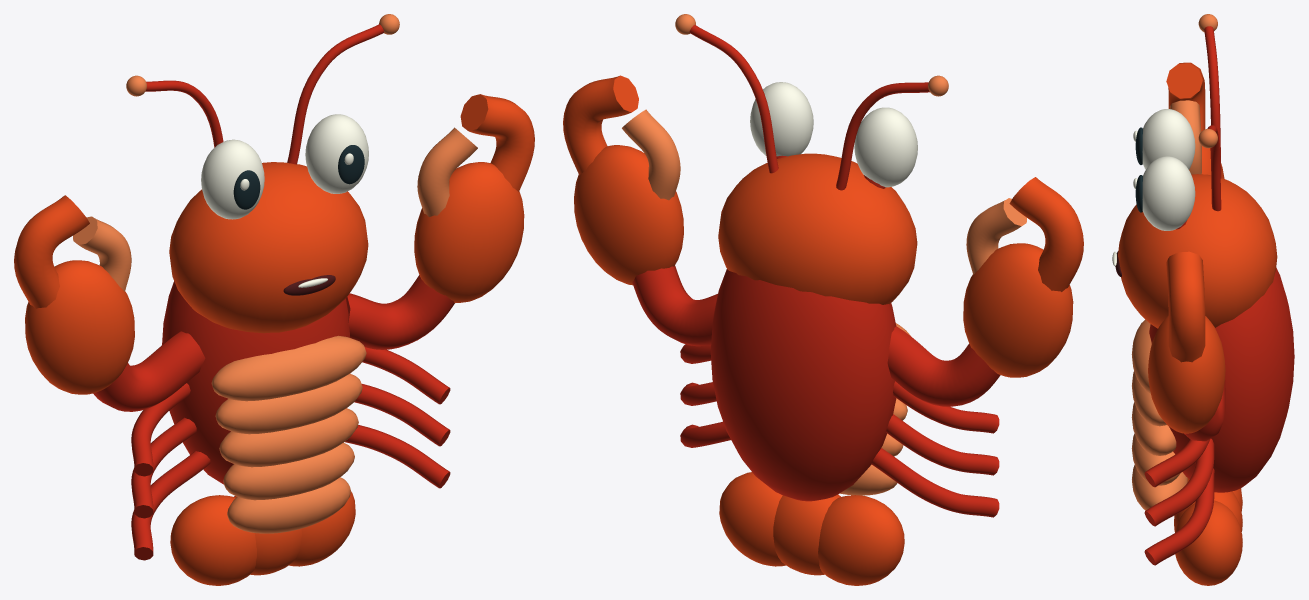
The model's file is lobster.glb.
3 views of the same model, side by side, from view 1: azimuth 30°, elevation 25°; view 2: azimuth 150°, elevation 25°; view 3: azimuth 270°, elevation 25° (orthographic). The views are drawn at different scales.
Visible parts, largest first — view 1: head_shell, belly_plate, carapace, claw_palm, claw_palm.001, tail_fan, claw_arm.001, claw_arm, eye_glint, eye_glint.001, antenna, pincer_inner.001 (+4 smaller); view 2: carapace, head_shell, claw_palm, claw_palm.001, tail_fan, claw_arm, claw_arm.001, eye_glint, antenna, eye_glint.001, pincer_inner.001, pincer_inner (+2 smaller); view 3: carapace, head_shell, claw_palm.001, belly_plate, tail_fan, eye_glint.001, eye_glint, claw_palm, antenna, pincer_inner, claw_arm.001, antenna_tip.
Part boxes in pixels (x1,y1,x2,y2): head_shell: [169, 162, 368, 333]; belly_plate: [211, 335, 366, 533]; carapace: [131, 281, 450, 560]; claw_palm: [14, 195, 134, 394]; claw_palm.001: [414, 94, 534, 302]; tail_fan: [170, 491, 355, 585]; claw_arm.001: [346, 275, 454, 349]; claw_arm: [93, 331, 205, 411]; eye_glint: [201, 139, 264, 219]; eye_glint.001: [305, 114, 368, 193]; antenna: [145, 24, 384, 164]; pincer_inner.001: [417, 127, 477, 216]; carapace: [680, 269, 999, 517]; head_shell: [718, 153, 917, 304]; claw_palm: [963, 177, 1083, 377]; claw_palm.001: [563, 75, 683, 285]; tail_fan: [719, 472, 904, 585]; claw_arm: [887, 326, 1000, 406]; claw_arm.001: [632, 265, 717, 346]; eye_glint: [854, 107, 917, 187]; antenna: [689, 25, 929, 190]; eye_glint.001: [750, 82, 813, 156]; pincer_inner.001: [622, 109, 680, 200]; pincer_inner: [966, 198, 1026, 274]; carapace: [1144, 268, 1294, 565]; head_shell: [1118, 174, 1277, 328]; claw_palm.001: [1148, 251, 1225, 433]; belly_plate: [1131, 319, 1187, 510]; tail_fan: [1174, 478, 1242, 585]; eye_glint.001: [1133, 156, 1195, 230]; eye_glint: [1133, 109, 1195, 169]; claw_palm: [1166, 62, 1224, 178]; antenna: [1176, 26, 1221, 229]; pincer_inner: [1169, 100, 1201, 174]; claw_arm.001: [1184, 380, 1225, 441]; antenna_tip: [1198, 14, 1217, 148].
Bounding box in the file's own units: 2.57 × 2.51 × 0.845.
